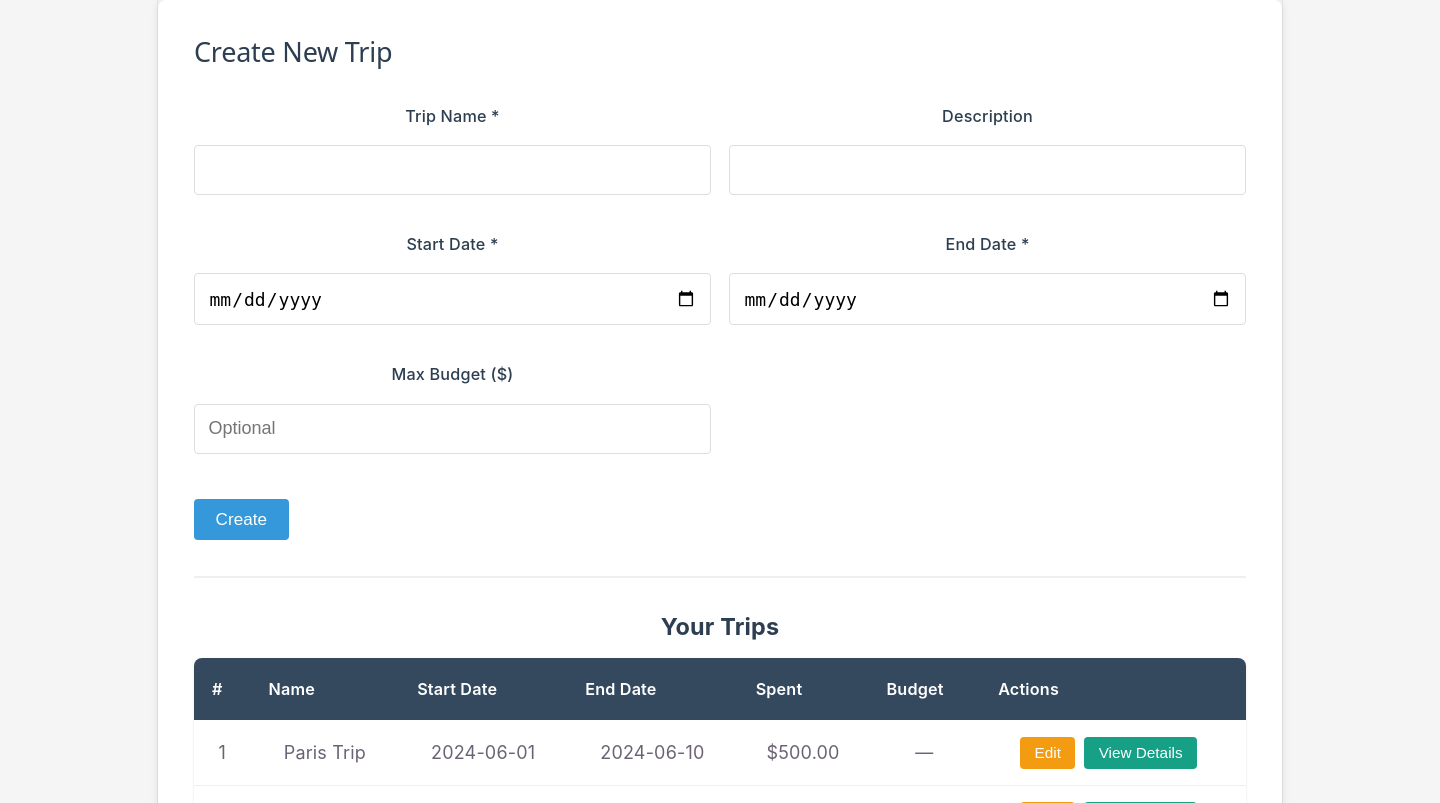
it: TripMaster › resets form when Cancel Edit is clicked
Step 1. Click the button "Edit" in the row of "Paris Trip" → (1048, 753), box [1020, 737, 1075, 769]
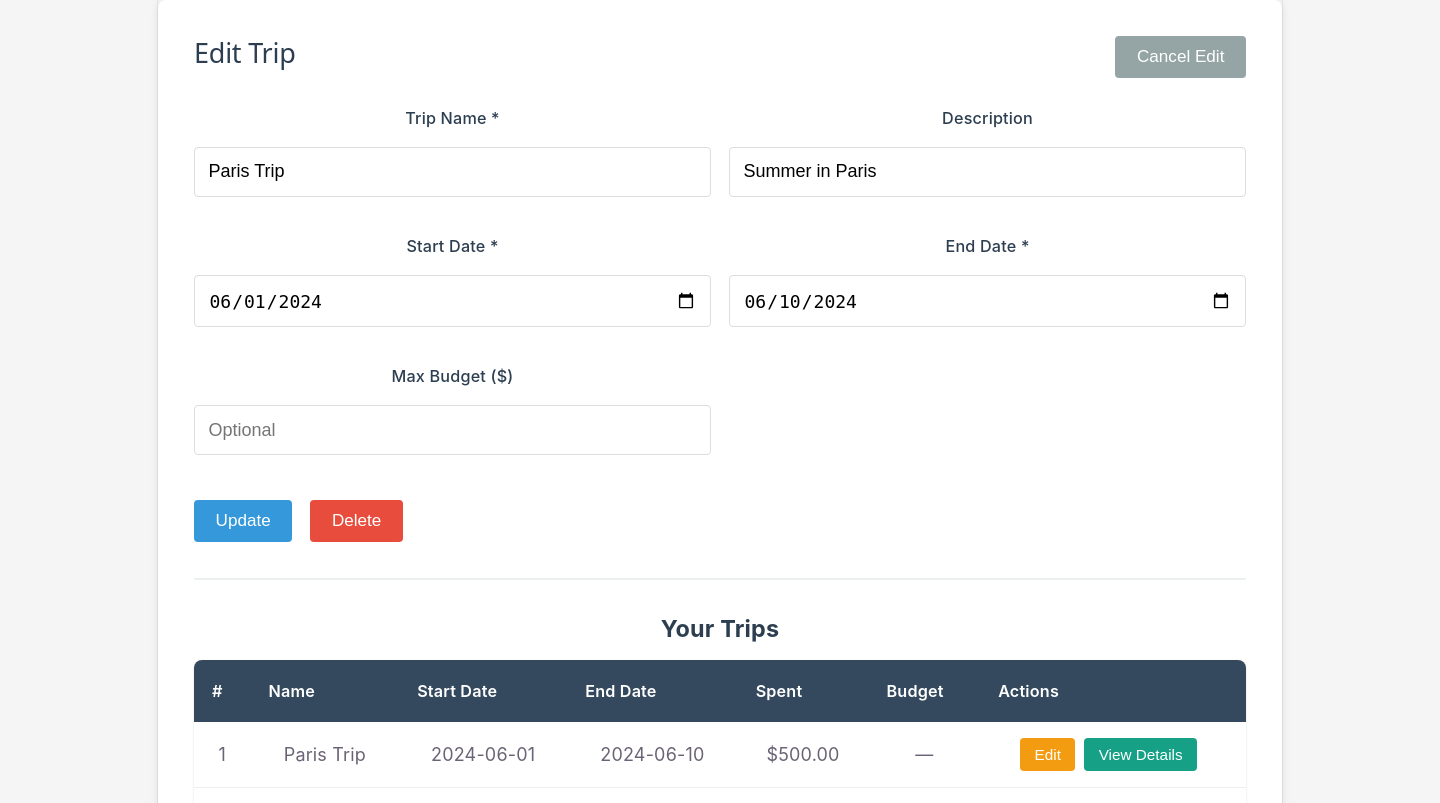
Step 2. Click the button "Cancel Edit" → (1181, 57), box [1115, 36, 1246, 78]
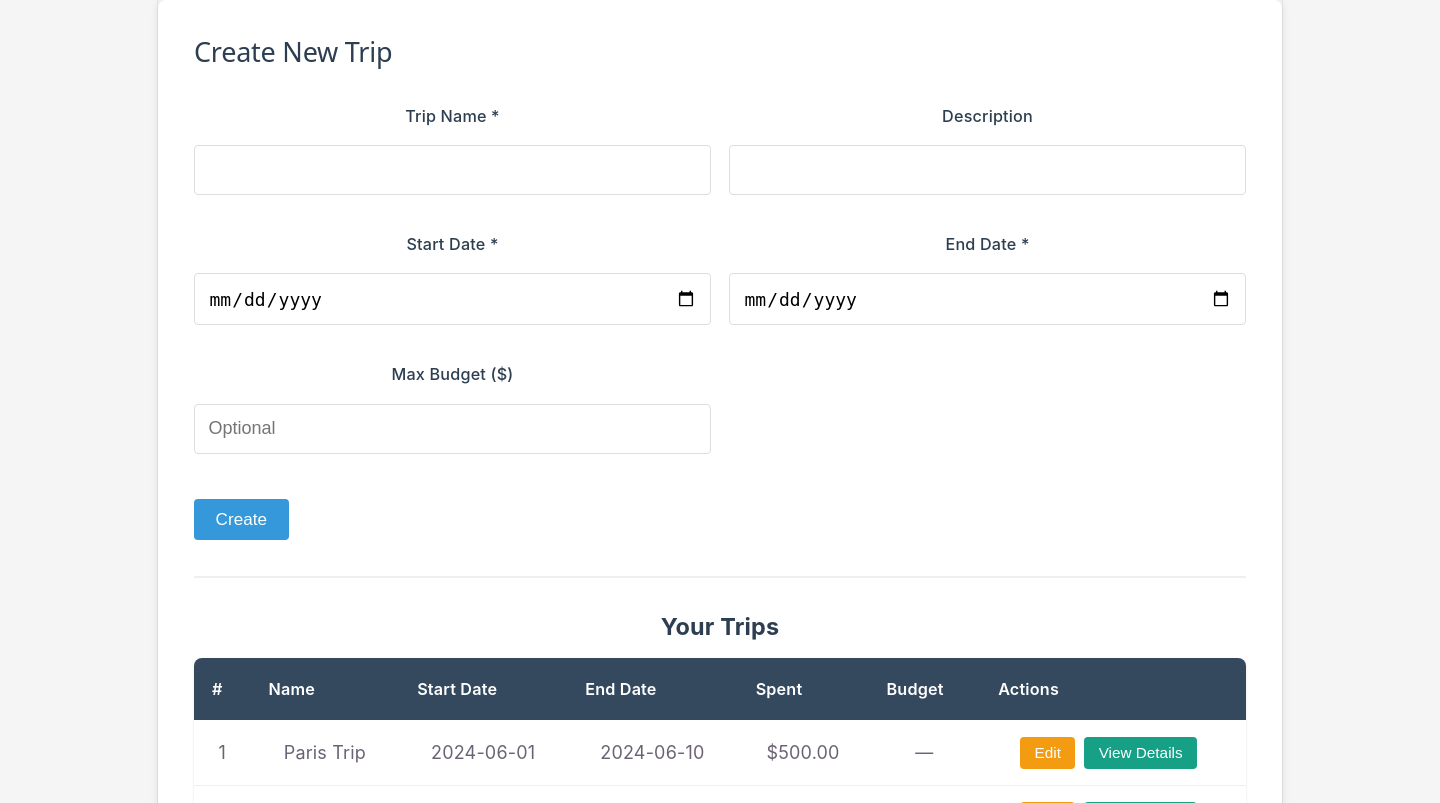
expect the heading "Create New Trip" is shown: met, box [194, 36, 392, 68]
expect the button "Cancel Edit" is gone: met
